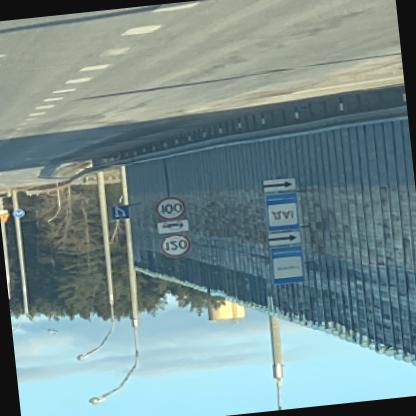speedlimit: (158, 235, 190, 260), (153, 197, 184, 222)
